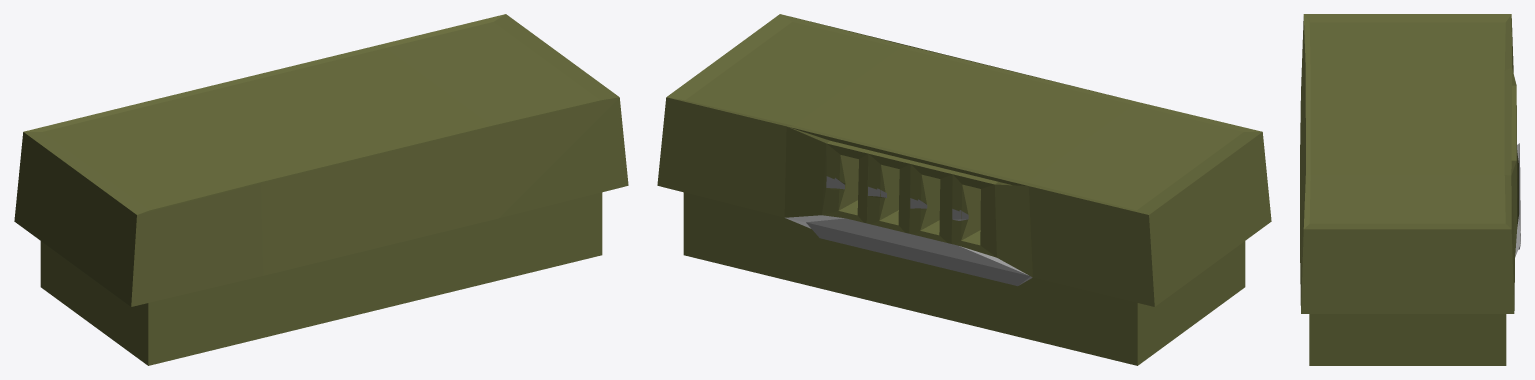
File: cajalock.fbx
3 views of the same model, side by side, from view 1: azimuth 30°, elevation 25°; view 2: azimuth 150°, elevation 25°; view 3: azimuth 270°, elevation 25° (orthographic). The views are drawn at different scales.
Visible parts, largest first — view 1: cajatapa, cajafondo; view 2: cajatapa, cajafondo; view 3: cajatapa, cajafondo.
Boxes of the visible parts, box(x1,y1,x2,y2) form: cajatapa: box(14, 14, 628, 306); cajafondo: box(40, 192, 602, 365); cajatapa: box(657, 14, 1271, 306); cajafondo: box(683, 192, 1245, 365); cajatapa: box(1300, 14, 1520, 313); cajafondo: box(1309, 314, 1506, 365).
Bounding box in the file's own units: 496 × 150 × 209.
